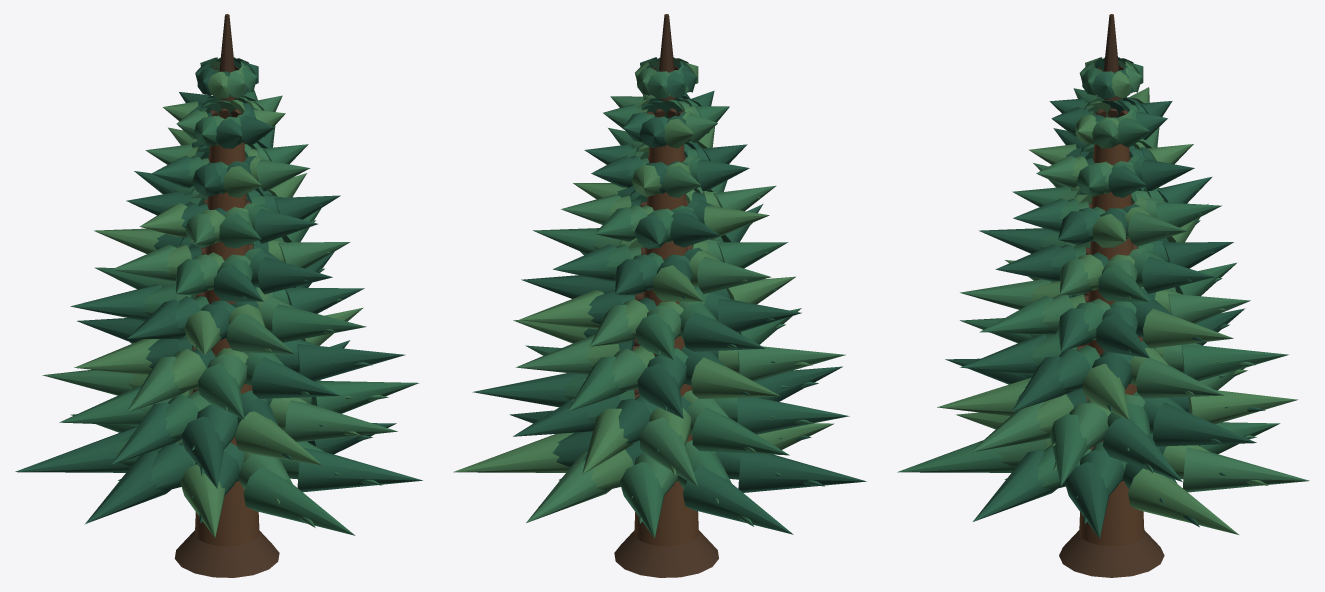
File: pine_l02.glb
3 renders of one model, left to right at view 1: azimuth 30°, elevation 25°; view 2: azimuth 150°, elevation 25°; view 3: azimuth 270°, elevation 25°, orthographic.
Visible parts, largest first — view 1: needle_sprays_4, needle_sprays_3, needle_sprays_5, needle_sprays_2, needle_sprays_1, tapered_trunk, root_flare, leader_tip; view 2: needle_sprays_1, needle_sprays_5, needle_sprays_2, needle_sprays_4, needle_sprays_3, tapered_trunk, root_flare, leader_tip; view 3: needle_sprays_2, needle_sprays_3, needle_sprays_1, needle_sprays_4, needle_sprays_5, tapered_trunk, root_flare, leader_tip.
Boxes of the visible parts, left/top/right/bottom form: needle_sprays_4: left=15, top=60, right=422, bottom=507; needle_sprays_3: left=59, top=57, right=418, bottom=535; needle_sprays_5: left=77, top=58, right=405, bottom=523; needle_sprays_2: left=42, top=57, right=397, bottom=527; needle_sprays_1: left=74, top=57, right=363, bottom=537; tapered_trunk: left=195, top=142, right=259, bottom=546; root_flare: left=174, top=530, right=279, bottom=577; leader_tip: left=219, top=14, right=236, bottom=100; needle_sprays_1: left=453, top=58, right=834, bottom=497; needle_sprays_5: left=509, top=60, right=866, bottom=492; needle_sprays_2: left=515, top=57, right=845, bottom=523; needle_sprays_4: left=472, top=57, right=849, bottom=534; needle_sprays_3: left=525, top=57, right=813, bottom=537; tapered_trunk: left=634, top=144, right=698, bottom=546; root_flare: left=614, top=530, right=718, bottom=577; leader_tip: left=658, top=14, right=675, bottom=100; needle_sprays_2: left=960, top=60, right=1309, bottom=492; needle_sprays_3: left=897, top=58, right=1288, bottom=498; needle_sprays_1: left=937, top=57, right=1298, bottom=534; needle_sprays_4: left=960, top=57, right=1229, bottom=523; needle_sprays_5: left=945, top=57, right=1265, bottom=538; tapered_trunk: left=1079, top=144, right=1144, bottom=546; root_flare: left=1059, top=530, right=1164, bottom=577; leader_tip: left=1103, top=14, right=1121, bottom=100.
Size of the model in its own units: 2 by 3.05 by 2.12.
